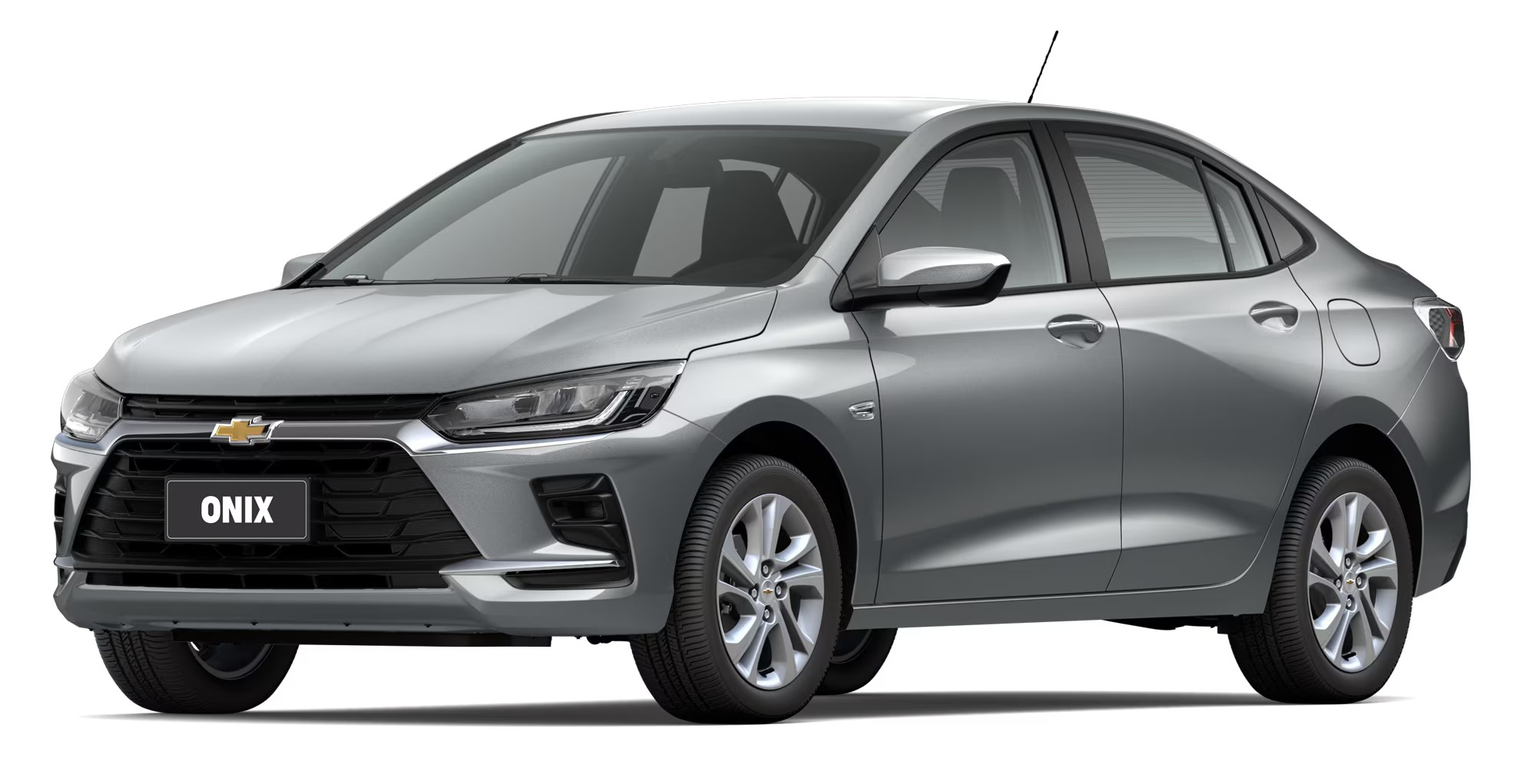car: (43, 91, 1476, 737)
